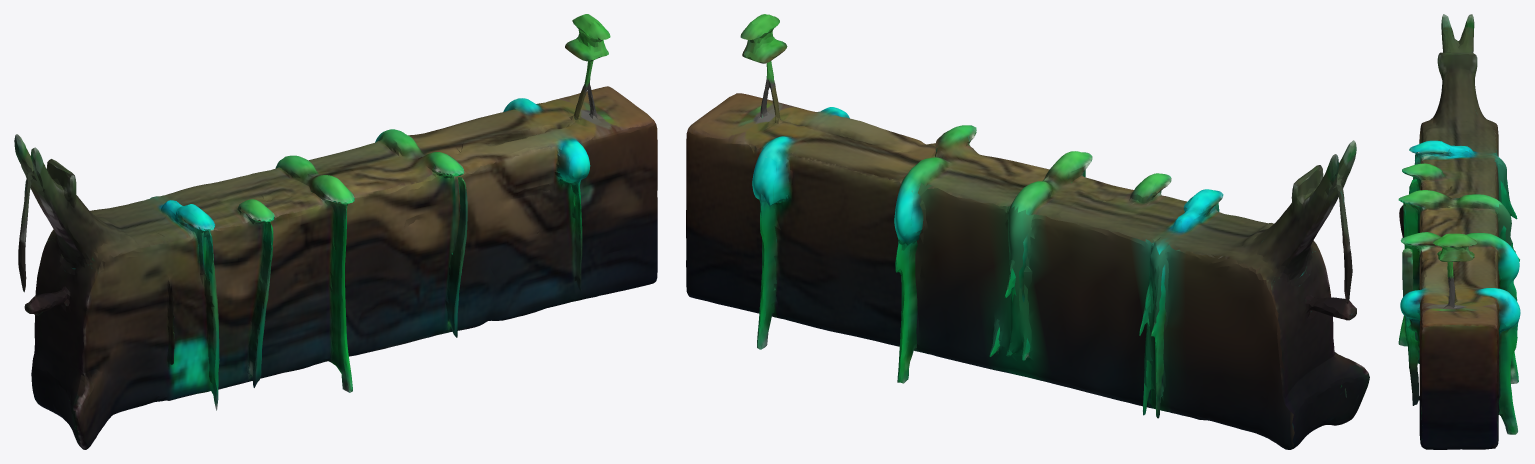
The model's file is Pandora_BranchBridgeLong.glb.
The picture shows the model from 3 angles, left to right: view 1: azimuth 30°, elevation 25°; view 2: azimuth 150°, elevation 25°; view 3: azimuth 270°, elevation 25°; orthographic projection. The views are drawn at different scales.
Visible parts, largest first — view 1: Pandora_BranchBridgeLong; view 2: Pandora_BranchBridgeLong; view 3: Pandora_BranchBridgeLong.
Part boxes in pixels (bbox=[...]): Pandora_BranchBridgeLong: bbox=[14, 14, 657, 449]; Pandora_BranchBridgeLong: bbox=[686, 14, 1369, 449]; Pandora_BranchBridgeLong: bbox=[1398, 14, 1520, 449].
Bounding box in the file's own units: 8 × 3.66 × 1.8.
1 material, 1 textured.
